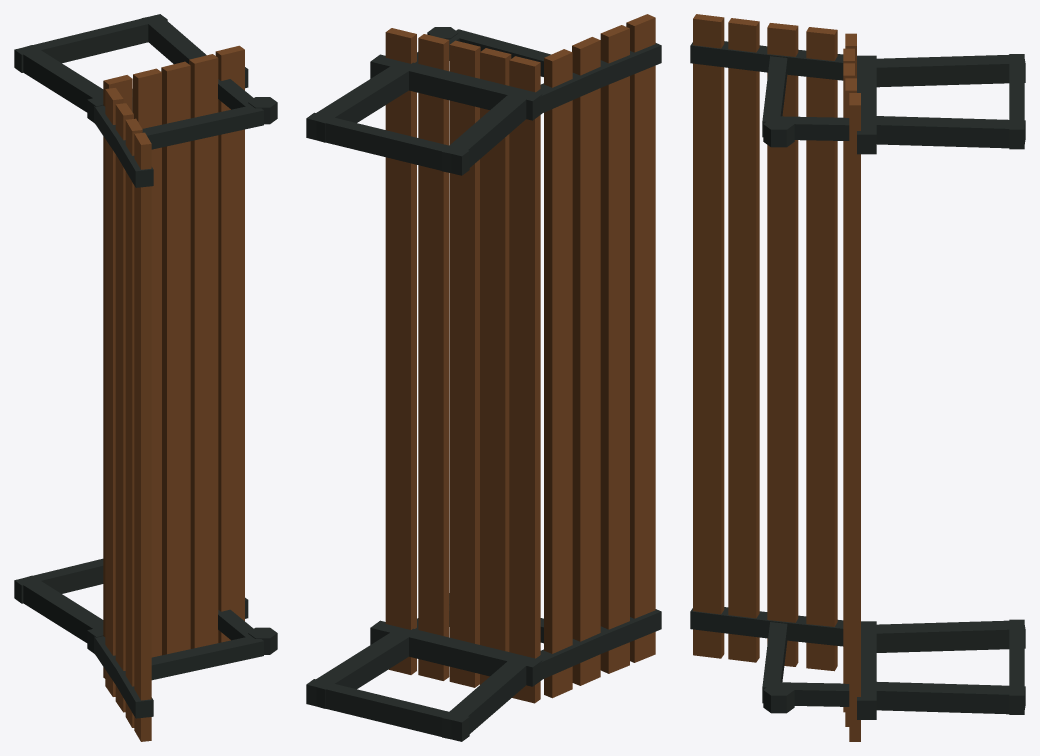
File: bench-bcn.glb
The picture shows the model from 3 angles, left to right: view 1: azimuth 30°, elevation 25°; view 2: azimuth 150°, elevation 25°; view 3: azimuth 270°, elevation 25°; orthographic projection. The views are drawn at different scales.
Parts seen in each view (by area): view 1: bench-bcn; view 2: bench-bcn; view 3: bench-bcn.
Boxes of the visible parts, x1,y1,x2,y2 form: bench-bcn: (14,14,277,741); bench-bcn: (306,14,661,741); bench-bcn: (690,14,1025,741).
Size of the model in its own units: 0.594 by 1.8 by 0.8588.
